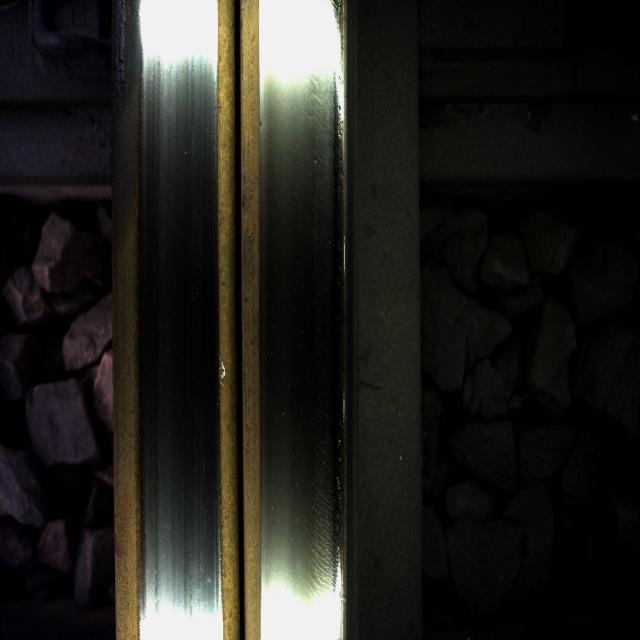break: (146, 59, 209, 484)
normal: (270, 62, 352, 558)
